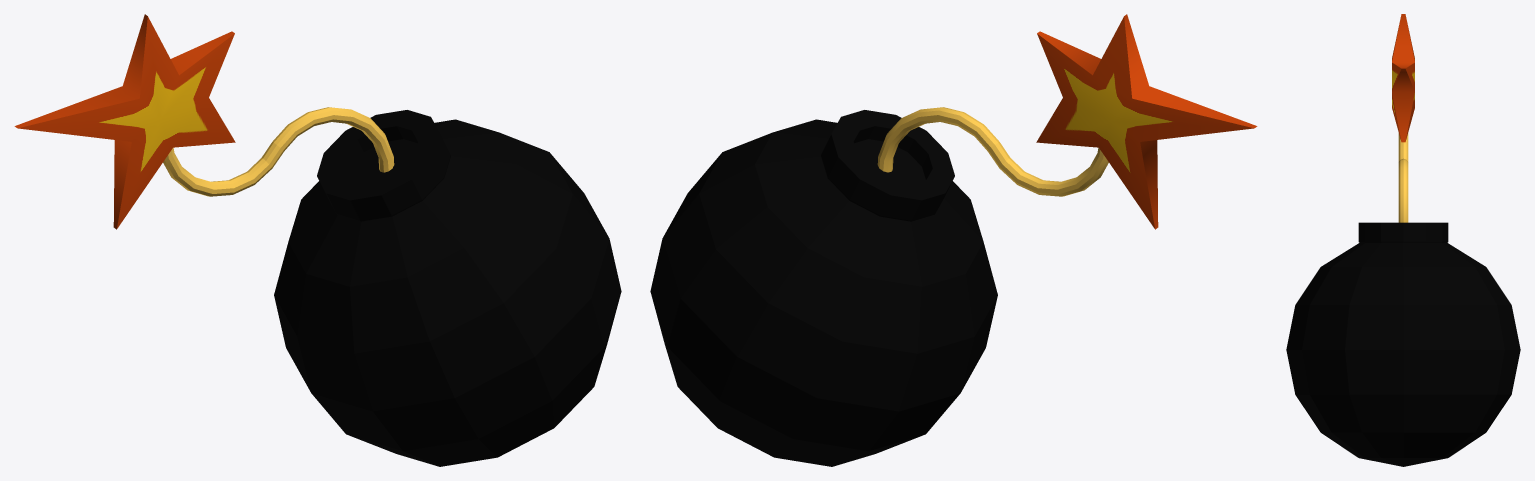
The model's file is Item_Bomb.fbx.
The picture shows the model from 3 angles, left to right: view 1: azimuth 30°, elevation 25°; view 2: azimuth 150°, elevation 25°; view 3: azimuth 270°, elevation 25°; orthographic projection. The views are drawn at different scales.
Visible parts, largest first — view 1: Bomb_body, Spark, Line; view 2: Bomb_body, Spark, Line; view 3: Bomb_body, Spark, Line.
Part boxes in pixels (box(x1,y1,x2,y2)): Bomb_body: box(274, 110, 621, 466); Spark: box(14, 14, 235, 229); Line: box(163, 107, 394, 196); Bomb_body: box(650, 110, 997, 466); Spark: box(1036, 14, 1257, 229); Line: box(877, 107, 1108, 196); Bomb_body: box(1286, 222, 1520, 466); Spark: box(1392, 14, 1414, 142); Line: box(1398, 133, 1408, 222).
Size of the model in its own units: 3.87 by 3.23 by 2.
Materials: 1 (1 with a texture image).
